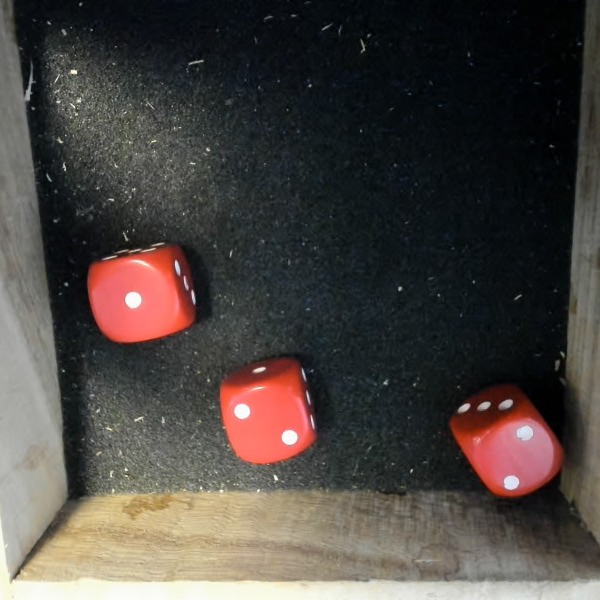red_die_pip1: (85, 239, 201, 345)
red_die_pip2: (439, 373, 576, 515), (210, 351, 329, 470)
